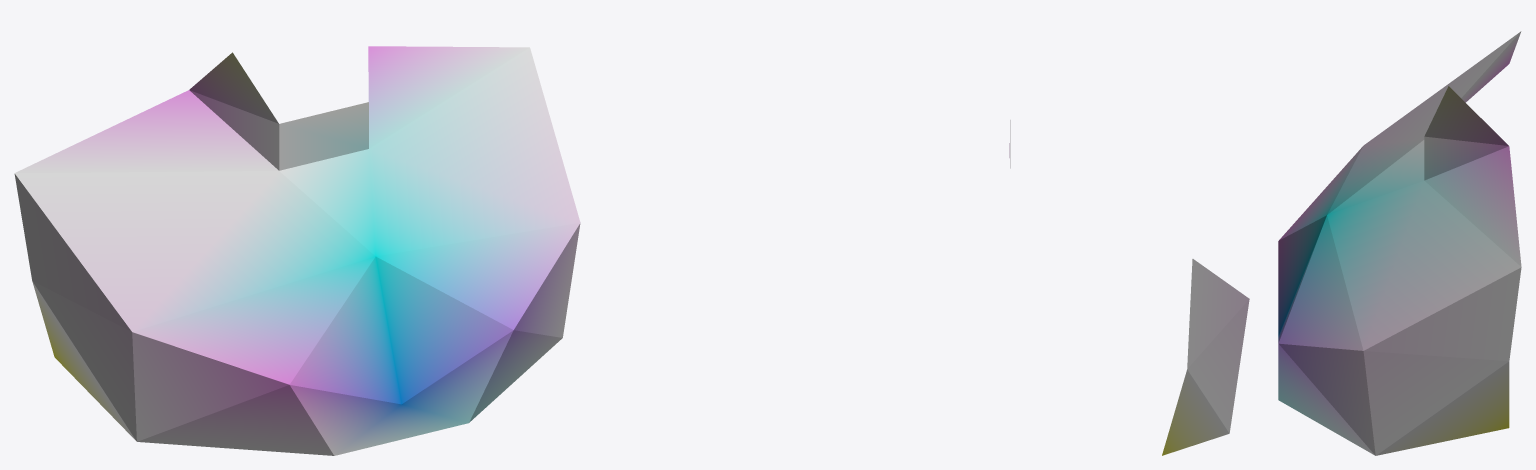
3 views of the same model, side by side, from view 1: azimuth 30°, elevation 25°; view 2: azimuth 150°, elevation 25°; view 3: azimuth 270°, elevation 25° (orthographic). The views are drawn at different scales.
Visible parts, largest first — view 1: model_111D; view 2: model_111D; view 3: model_111D.
Part boxes in pixels (x1,y1,x2,y2): model_111D: (14,46,580,455); model_111D: (1009,120,1249,455); model_111D: (1278,31,1521,455).
Bounding box in the file's own units: 46 × 29 × 20.
